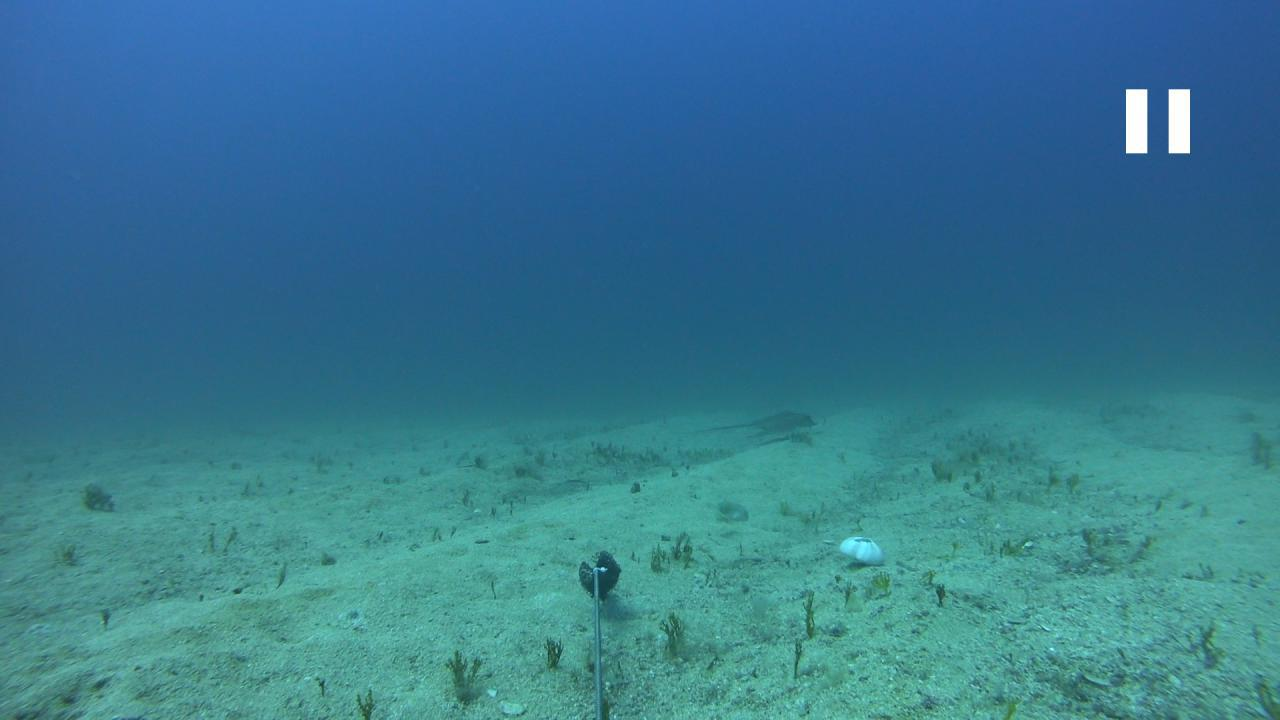dasyatis: (690, 410, 820, 434)
raor: (712, 498, 752, 529)
